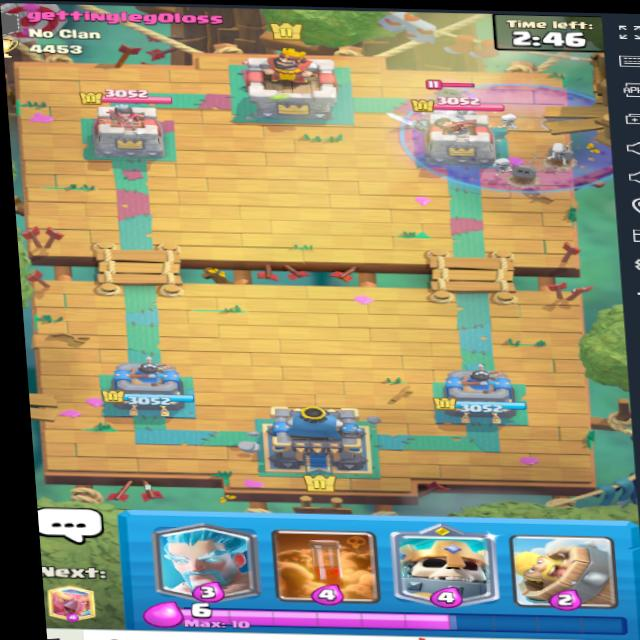Royalghost: (405, 88, 470, 143)
